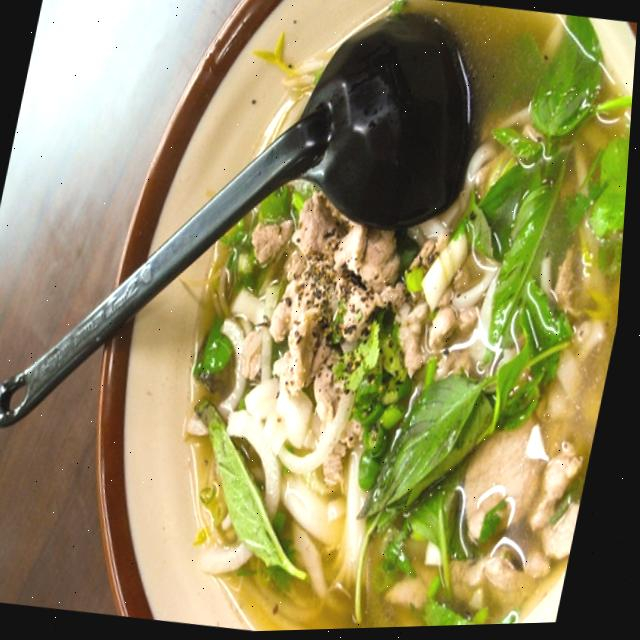面条主食: (31, 0, 640, 638)
